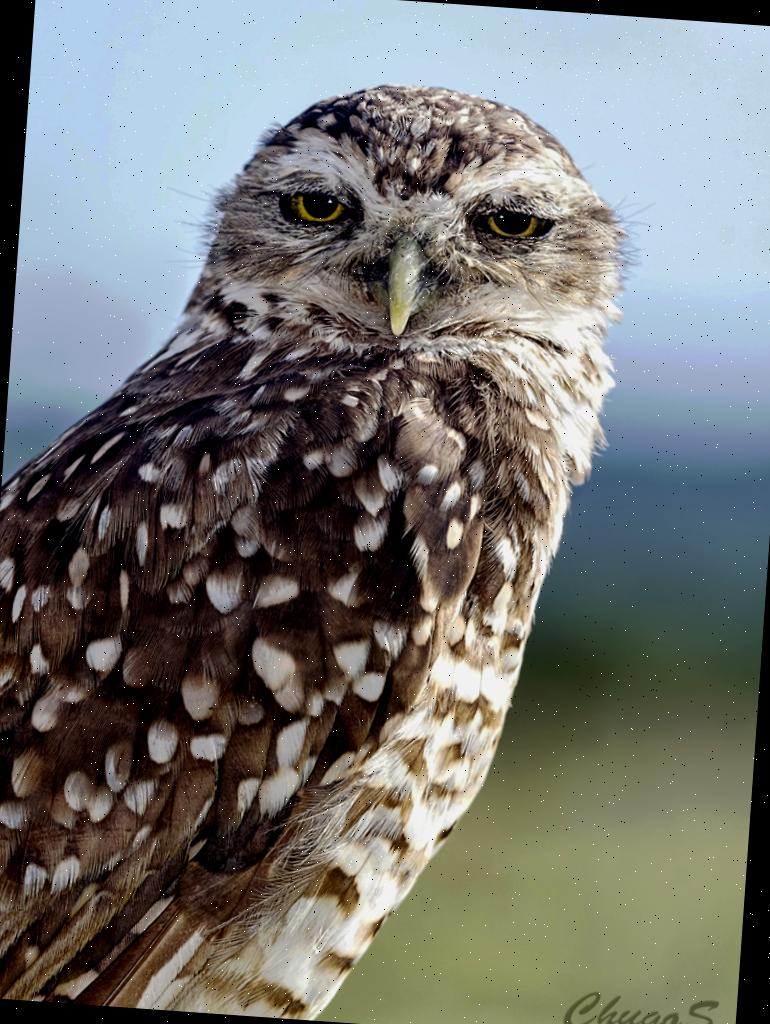Owl: (0, 57, 655, 1024)
